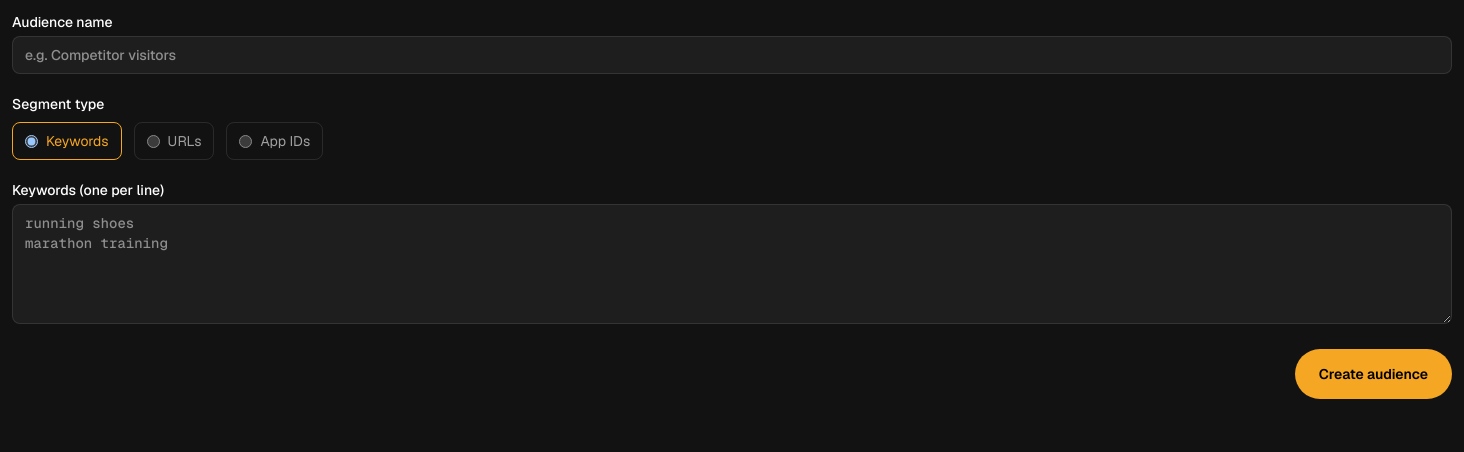
Test: CustomSegmentBuilder › Create button is disabled until name and at least one value are provided
Expected: the button "Create audience" is disabled, top-left (1295, 349), bottom-right (1452, 399)
Step 1. Type "Runners" into the field labelled "Audience name" → [732, 55], box top-left (12, 36), bottom-right (1452, 74)
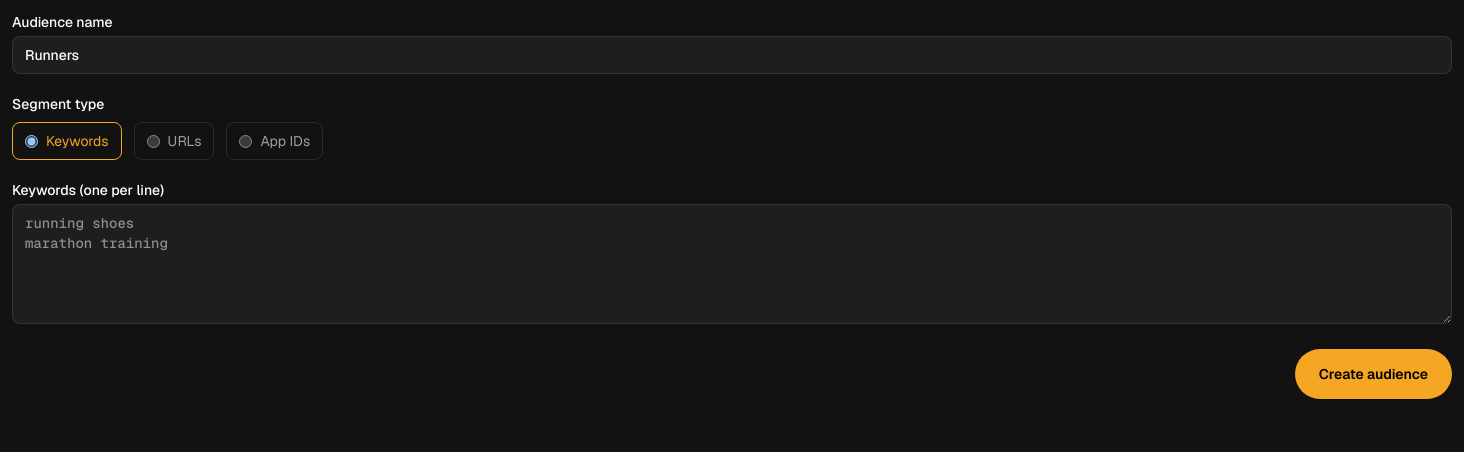
Expected: the button "Create audience" is disabled, top-left (1295, 349), bottom-right (1452, 399)
Step 2. Type "running shoes" into the text box named "Values" → [732, 264], box top-left (12, 204), bottom-right (1452, 324)
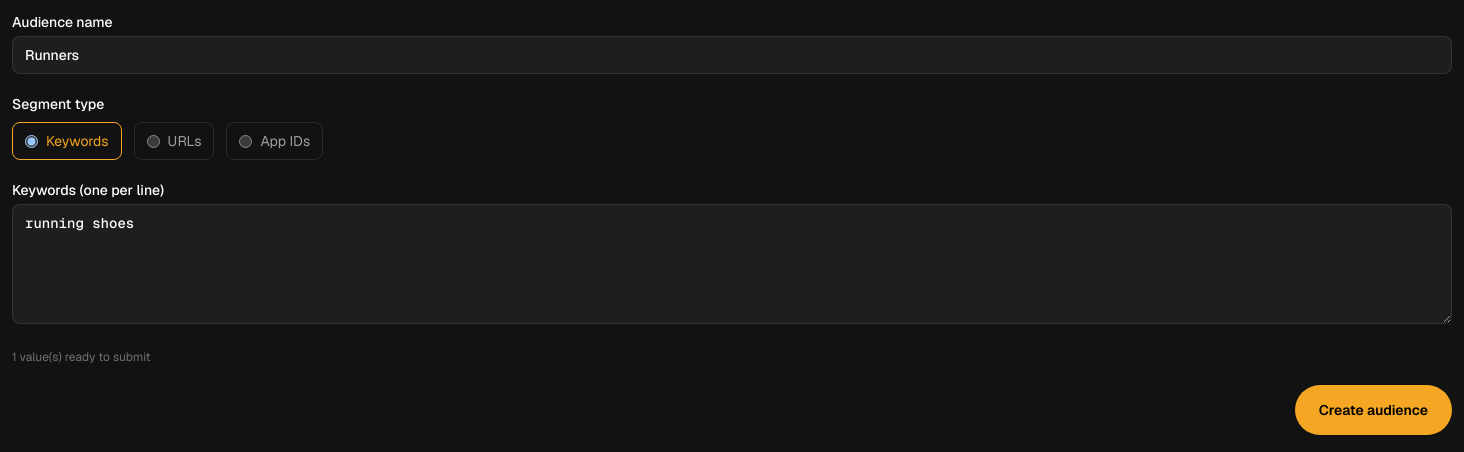
Now the button "Create audience" is enabled, box top-left (1295, 385), bottom-right (1452, 435)
